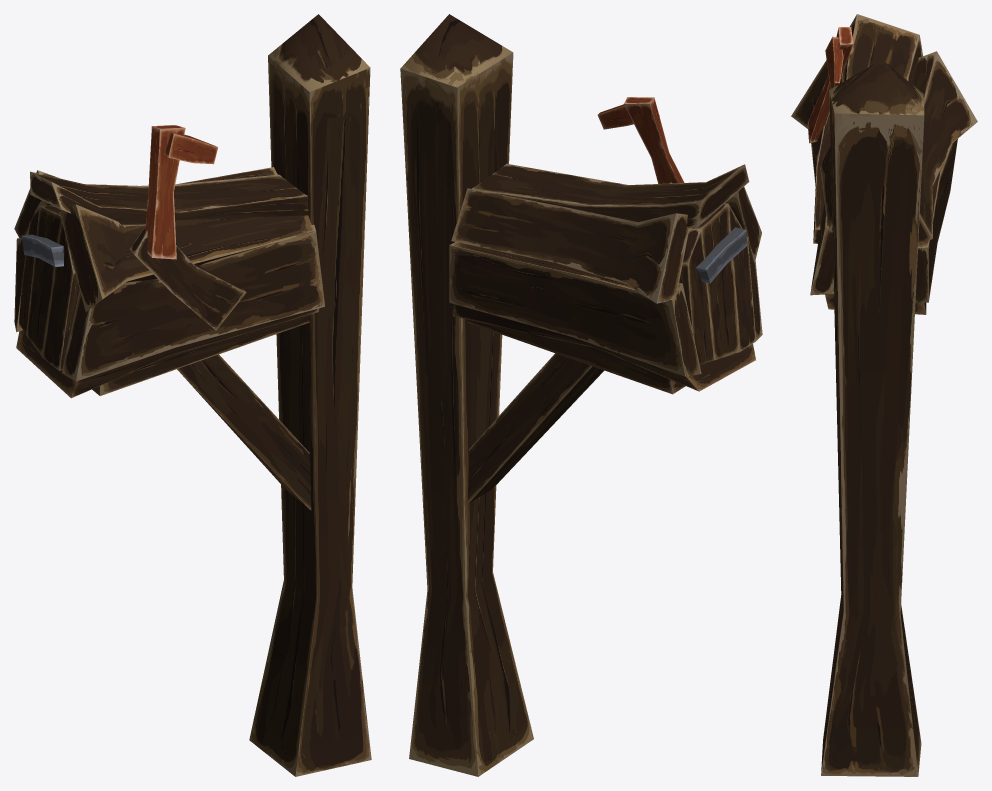
The model's file is SM_PROP_mailbox.fbx.
3 views of the same model, side by side, from view 1: azimuth 30°, elevation 25°; view 2: azimuth 150°, elevation 25°; view 3: azimuth 270°, elevation 25° (orthographic). The views are drawn at different scales.
Parts seen in each view (by area): view 1: SM_PROP_mailbox; view 2: SM_PROP_mailbox; view 3: SM_PROP_mailbox.
Part boxes in pixels (left/top/right/bottom): SM_PROP_mailbox: left=14, top=14, right=371, bottom=776; SM_PROP_mailbox: left=400, top=14, right=762, bottom=776; SM_PROP_mailbox: left=791, top=14, right=977, bottom=776.
Bounding box in the file's own units: 67.07 × 151 × 36.18.
